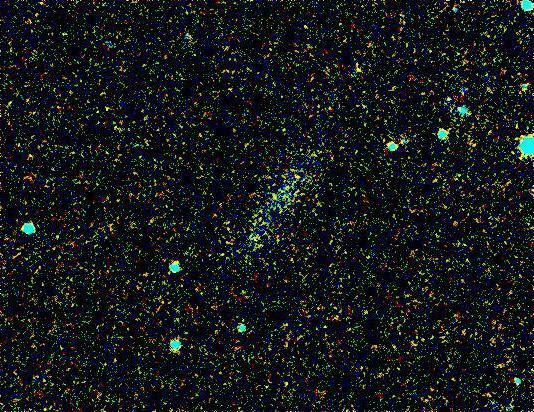star: (341, 54, 371, 84)
